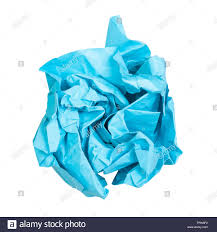crumpled paper: (39, 17, 180, 193)
